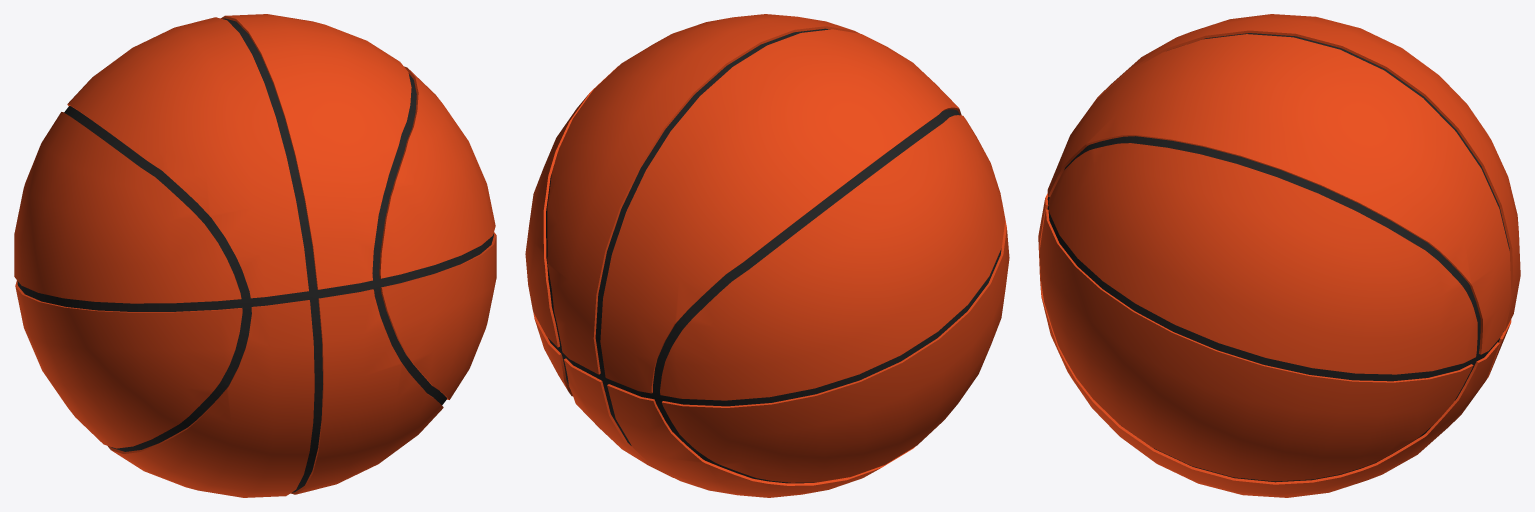
File: basketball.glb
3 renders of one model, left to right at view 1: azimuth 30°, elevation 25°; view 2: azimuth 150°, elevation 25°; view 3: azimuth 270°, elevation 25°, orthographic.
Parts seen in each view (by area): view 1: Cube.810; view 2: Cube.810; view 3: Cube.810.
Part boxes in pixels (x1,y1,x2,y2): Cube.810: [14, 14, 496, 497]; Cube.810: [525, 14, 1009, 497]; Cube.810: [1038, 14, 1520, 497].
Bounding box in the file's own units: 2.32 × 2.32 × 2.31.
1 material, 1 textured.
